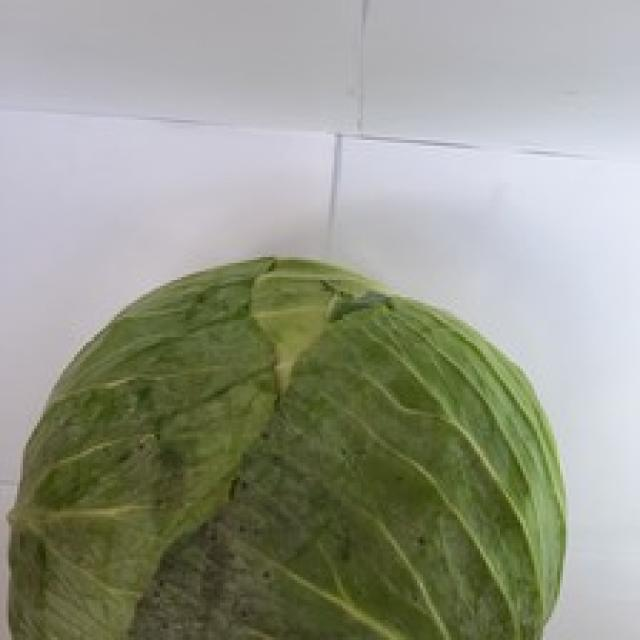Cabbage: (3, 254, 568, 637)
